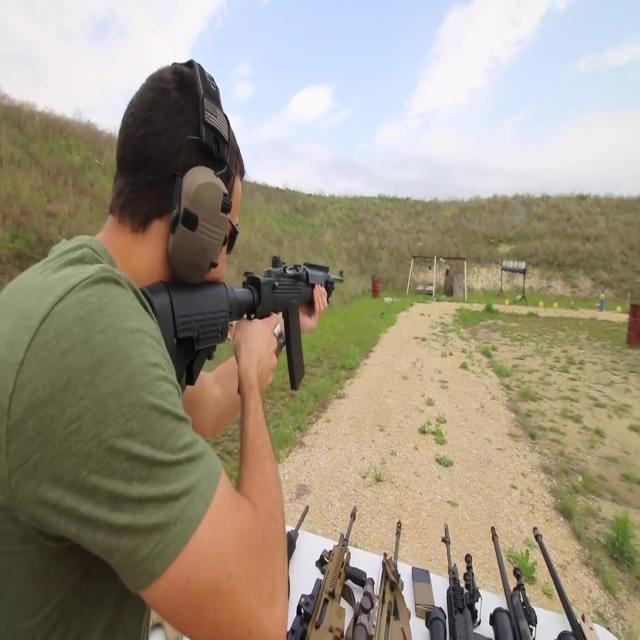Weapon: (283, 483, 640, 640), (103, 206, 386, 391), (127, 584, 223, 640)
